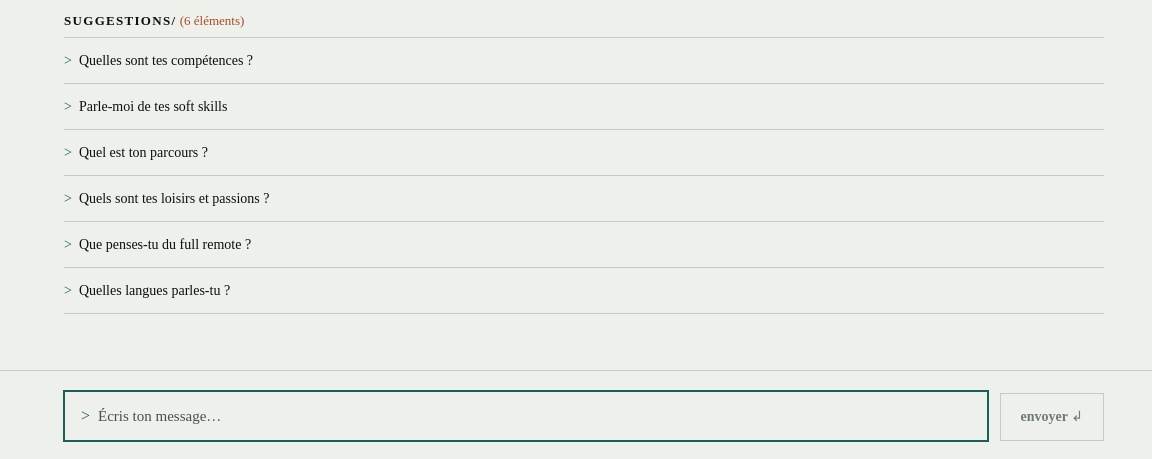
Test: ChatInterface › garde le textarea éditable et désactive le bouton pendant le streaming
Type "Test" into the text box named "message à envoyer" at (534, 416), box [98,404,971,428]
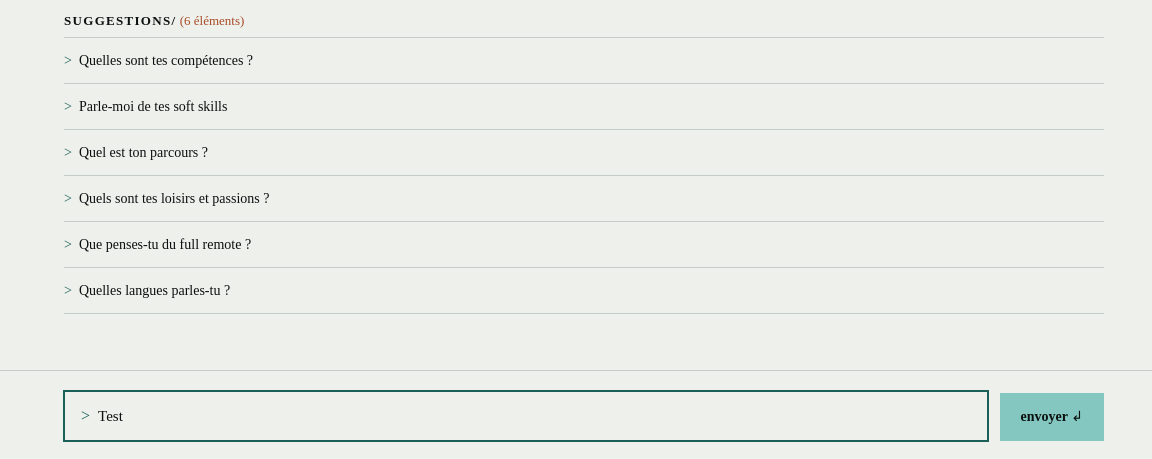
Click the button "envoyer ↲" at (1052, 416), box [1000,392,1104,440]
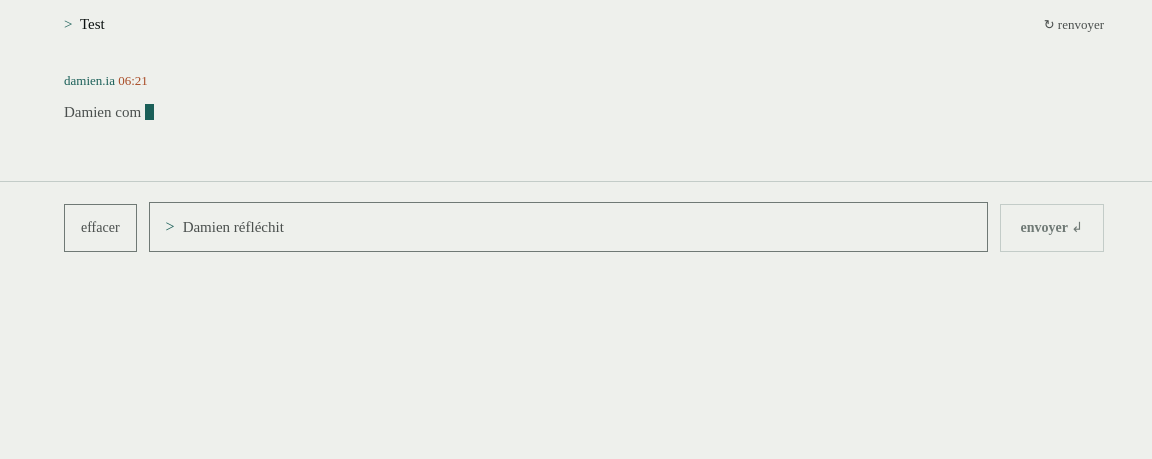
Expected: the text box named "message à envoyer" is enabled, [183,215,971,239]
Result: the button "envoyer ↲" is disabled at [1000,204,1104,252]
